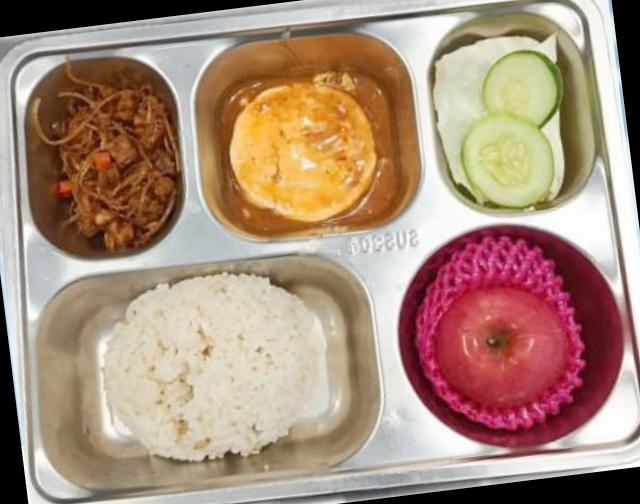buah: (432, 287, 568, 412)
nasi: (104, 273, 325, 462)
sayur: (432, 36, 563, 209)
telur: (228, 83, 375, 223)
tempe: (30, 62, 180, 252)
